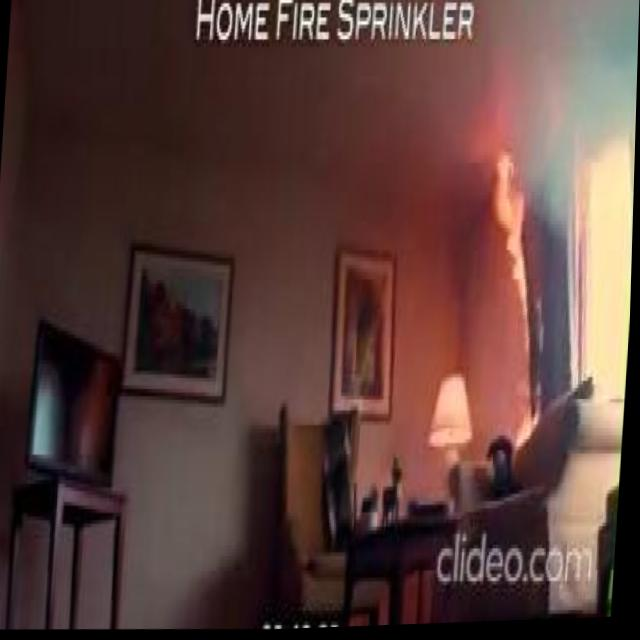fire: (484, 118, 537, 302), (500, 304, 551, 455)
